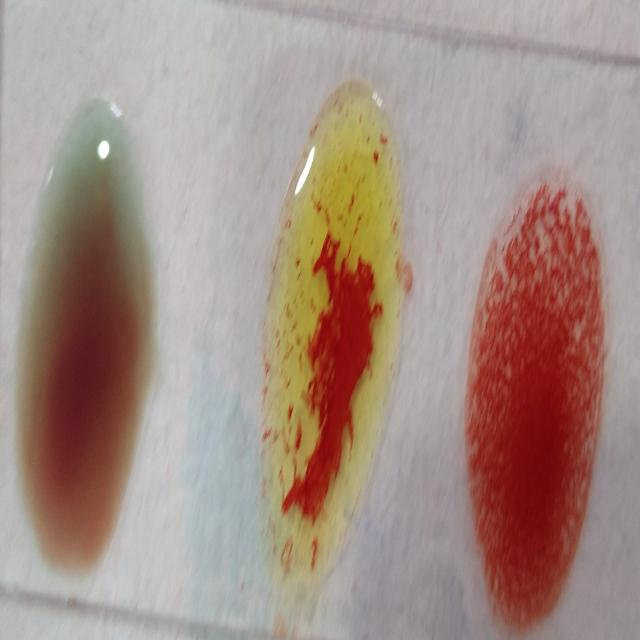B: (259, 86, 406, 610)
D: (462, 167, 606, 639)
